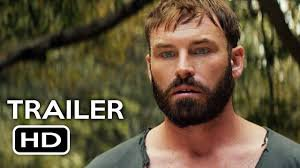noMask: (139, 4, 255, 133)
